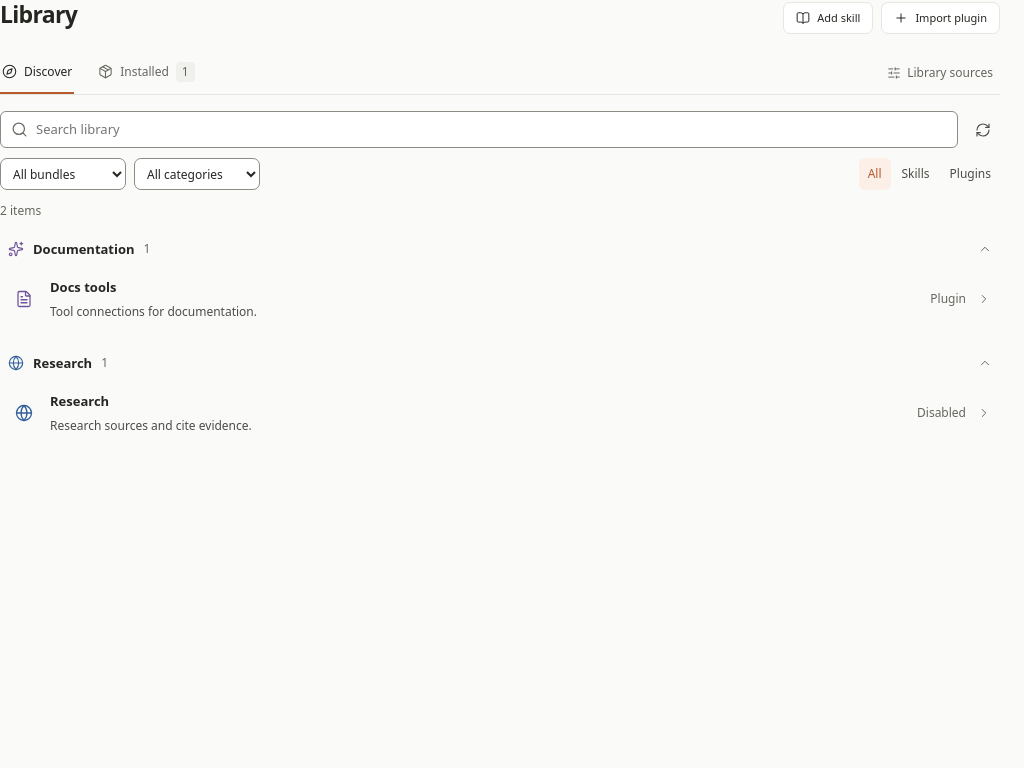
Scenario: setup library › previews a disabled skill without enabling it or granting an action
What coordinates should you click on to do the following:
click the button "Research"
I would click on:
 (80, 402)
Its box is [50,392,109,412].
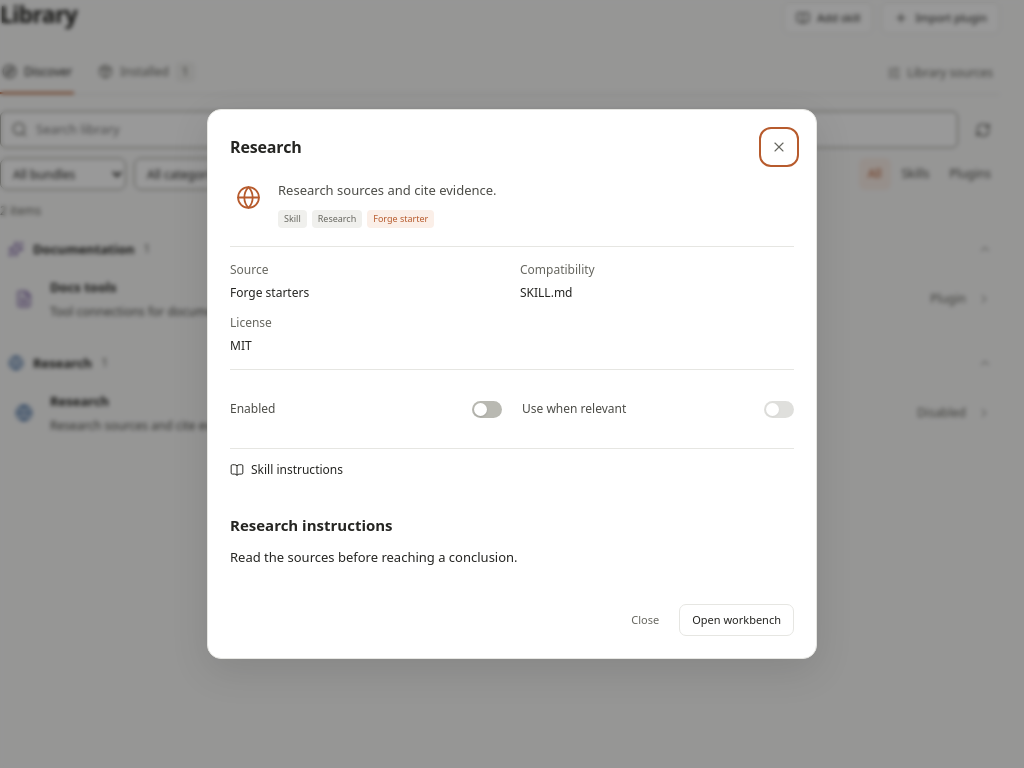
Check: the text "Read the sources before reaching a conclusion." is shown, box [230,548,518,566]
